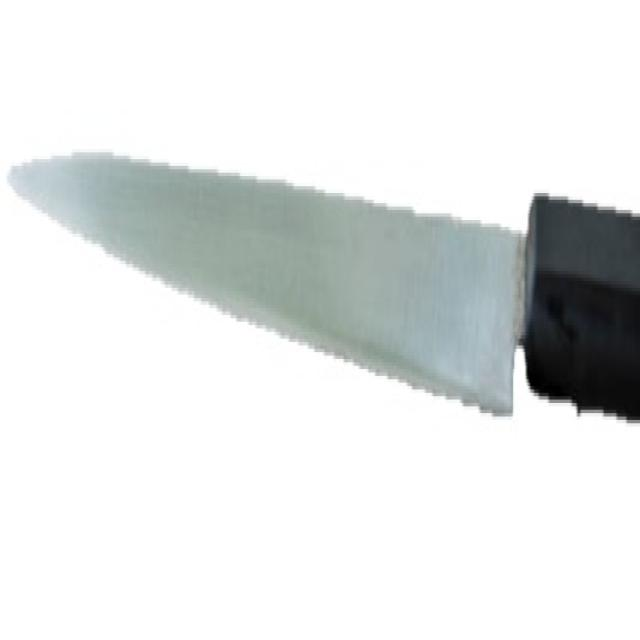knife: (9, 142, 640, 443)
